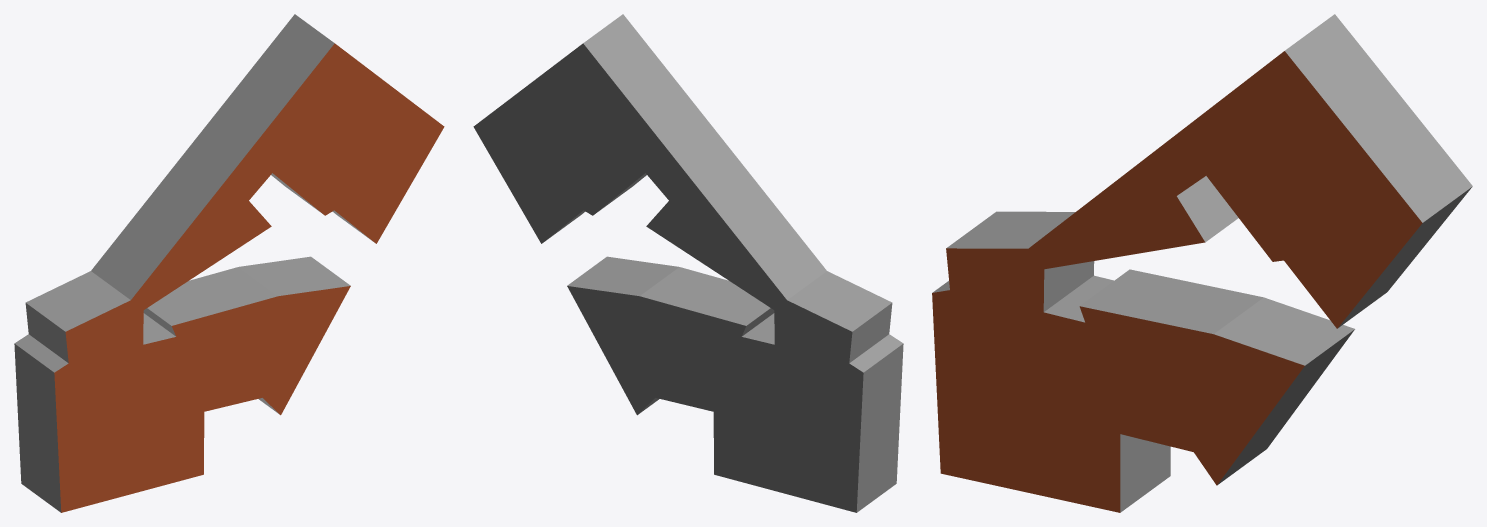
File: construction_3874_assumed_A_Casa_h6m.obj
The picture shows the model from 3 angles, left to right: view 1: azimuth 30°, elevation 25°; view 2: azimuth 150°, elevation 25°; view 3: azimuth 330°, elevation 25°; orthographic projection. The views are drawn at different scales.
Visible parts, largest first — view 1: construction_3874_assumed_A_Casa; view 2: construction_3874_assumed_A_Casa; view 3: construction_3874_assumed_A_Casa.
Part boxes in pixels (<box>): construction_3874_assumed_A_Casa: <box>14,14,444,512</box>; construction_3874_assumed_A_Casa: <box>473,14,903,512</box>; construction_3874_assumed_A_Casa: <box>932,14,1472,512</box>.
Size of the model in its own units: 33.79 by 33.35 by 6.
